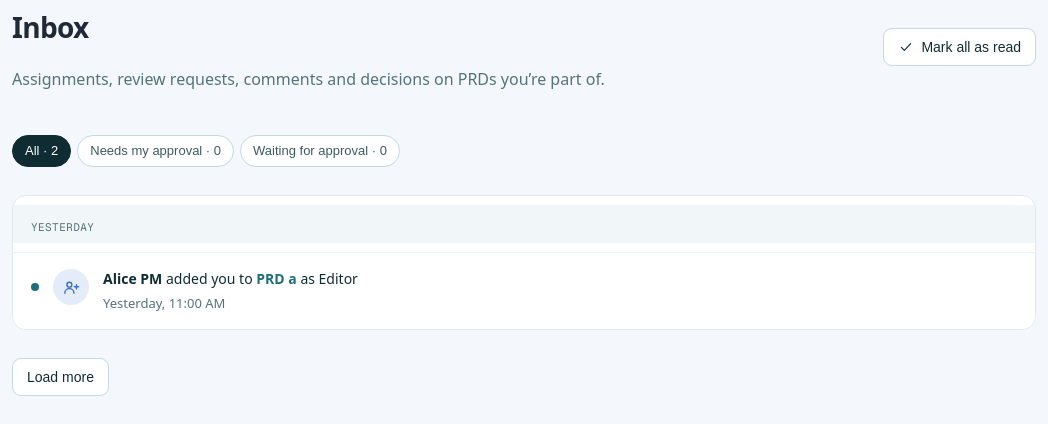
Test case: InboxPage › loads the next page
Click the button "Load more". click: coordinates (60, 377)
box: [12,358,109,396]
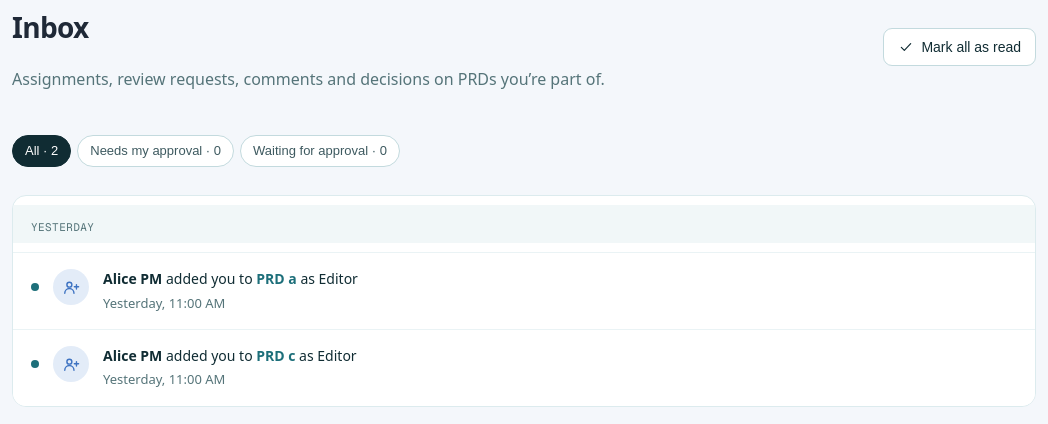
Check: the text "PRD c" is shown, box [256,346,296,365]
